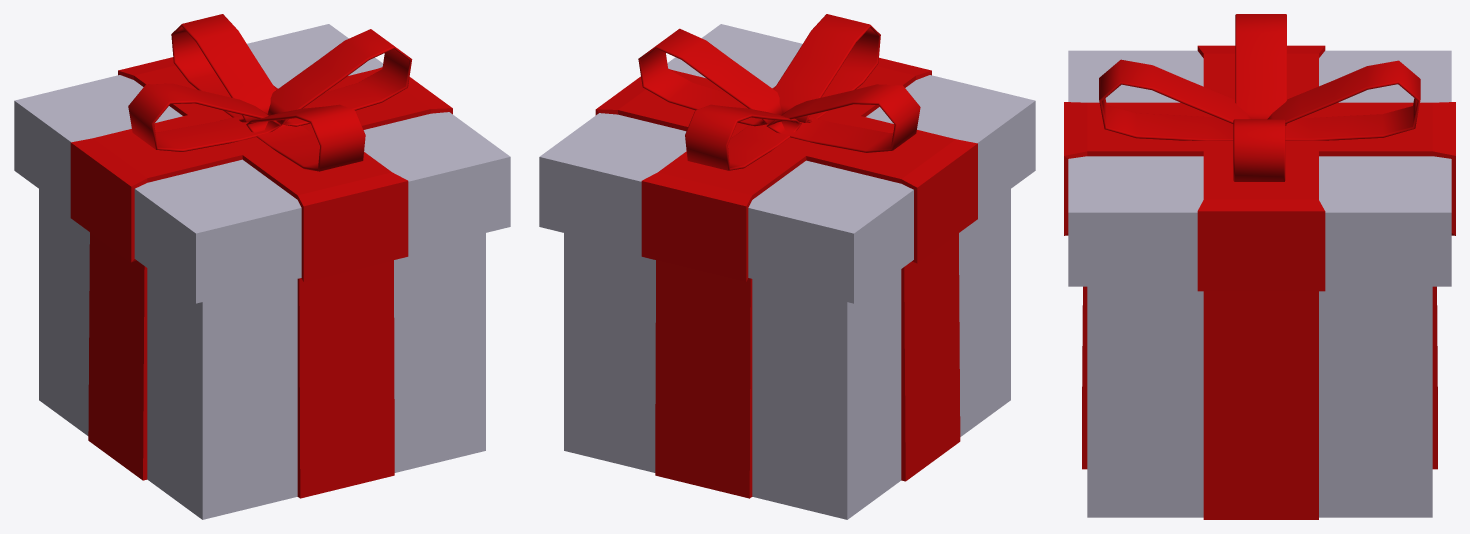
The model's file is gift.obj.
3 views of the same model, side by side, from view 1: azimuth 30°, elevation 25°; view 2: azimuth 150°, elevation 25°; view 3: azimuth 270°, elevation 25° (orthographic). The views are drawn at different scales.
Parts seen in each view (by area): view 1: Cube, BézierCircle.003, BézierCircle.002, BézierCircle, BézierCircle.001; view 2: Cube, BézierCircle.003, BézierCircle.001, BézierCircle, BézierCircle.002; view 3: Cube, BézierCircle.001, BézierCircle.002, BézierCircle, BézierCircle.003.
Boxes of the visible parts, left/top/right/bottom form: Cube: left=14, top=24, right=510, bottom=519; BézierCircle.003: left=267, top=29, right=412, bottom=126; BézierCircle.002: left=171, top=14, right=275, bottom=122; BézierCircle: left=128, top=83, right=281, bottom=151; BézierCircle.001: left=246, top=104, right=365, bottom=171; Cube: left=539, top=24, right=1035, bottom=519; BézierCircle.003: left=638, top=28, right=782, bottom=126; BézierCircle.001: left=774, top=14, right=880, bottom=122; BézierCircle: left=766, top=84, right=920, bottom=152; BézierCircle.002: left=685, top=104, right=801, bottom=170; Cube: left=1064, top=45, right=1455, bottom=519; BézierCircle.001: left=1099, top=59, right=1251, bottom=140; BézierCircle.002: left=1267, top=60, right=1420, bottom=140; BézierCircle: left=1235, top=14, right=1286, bottom=125; BézierCircle.003: left=1233, top=119, right=1285, bottom=181.
Bounding box in the file's own units: 2.27 × 2.42 × 2.27.
